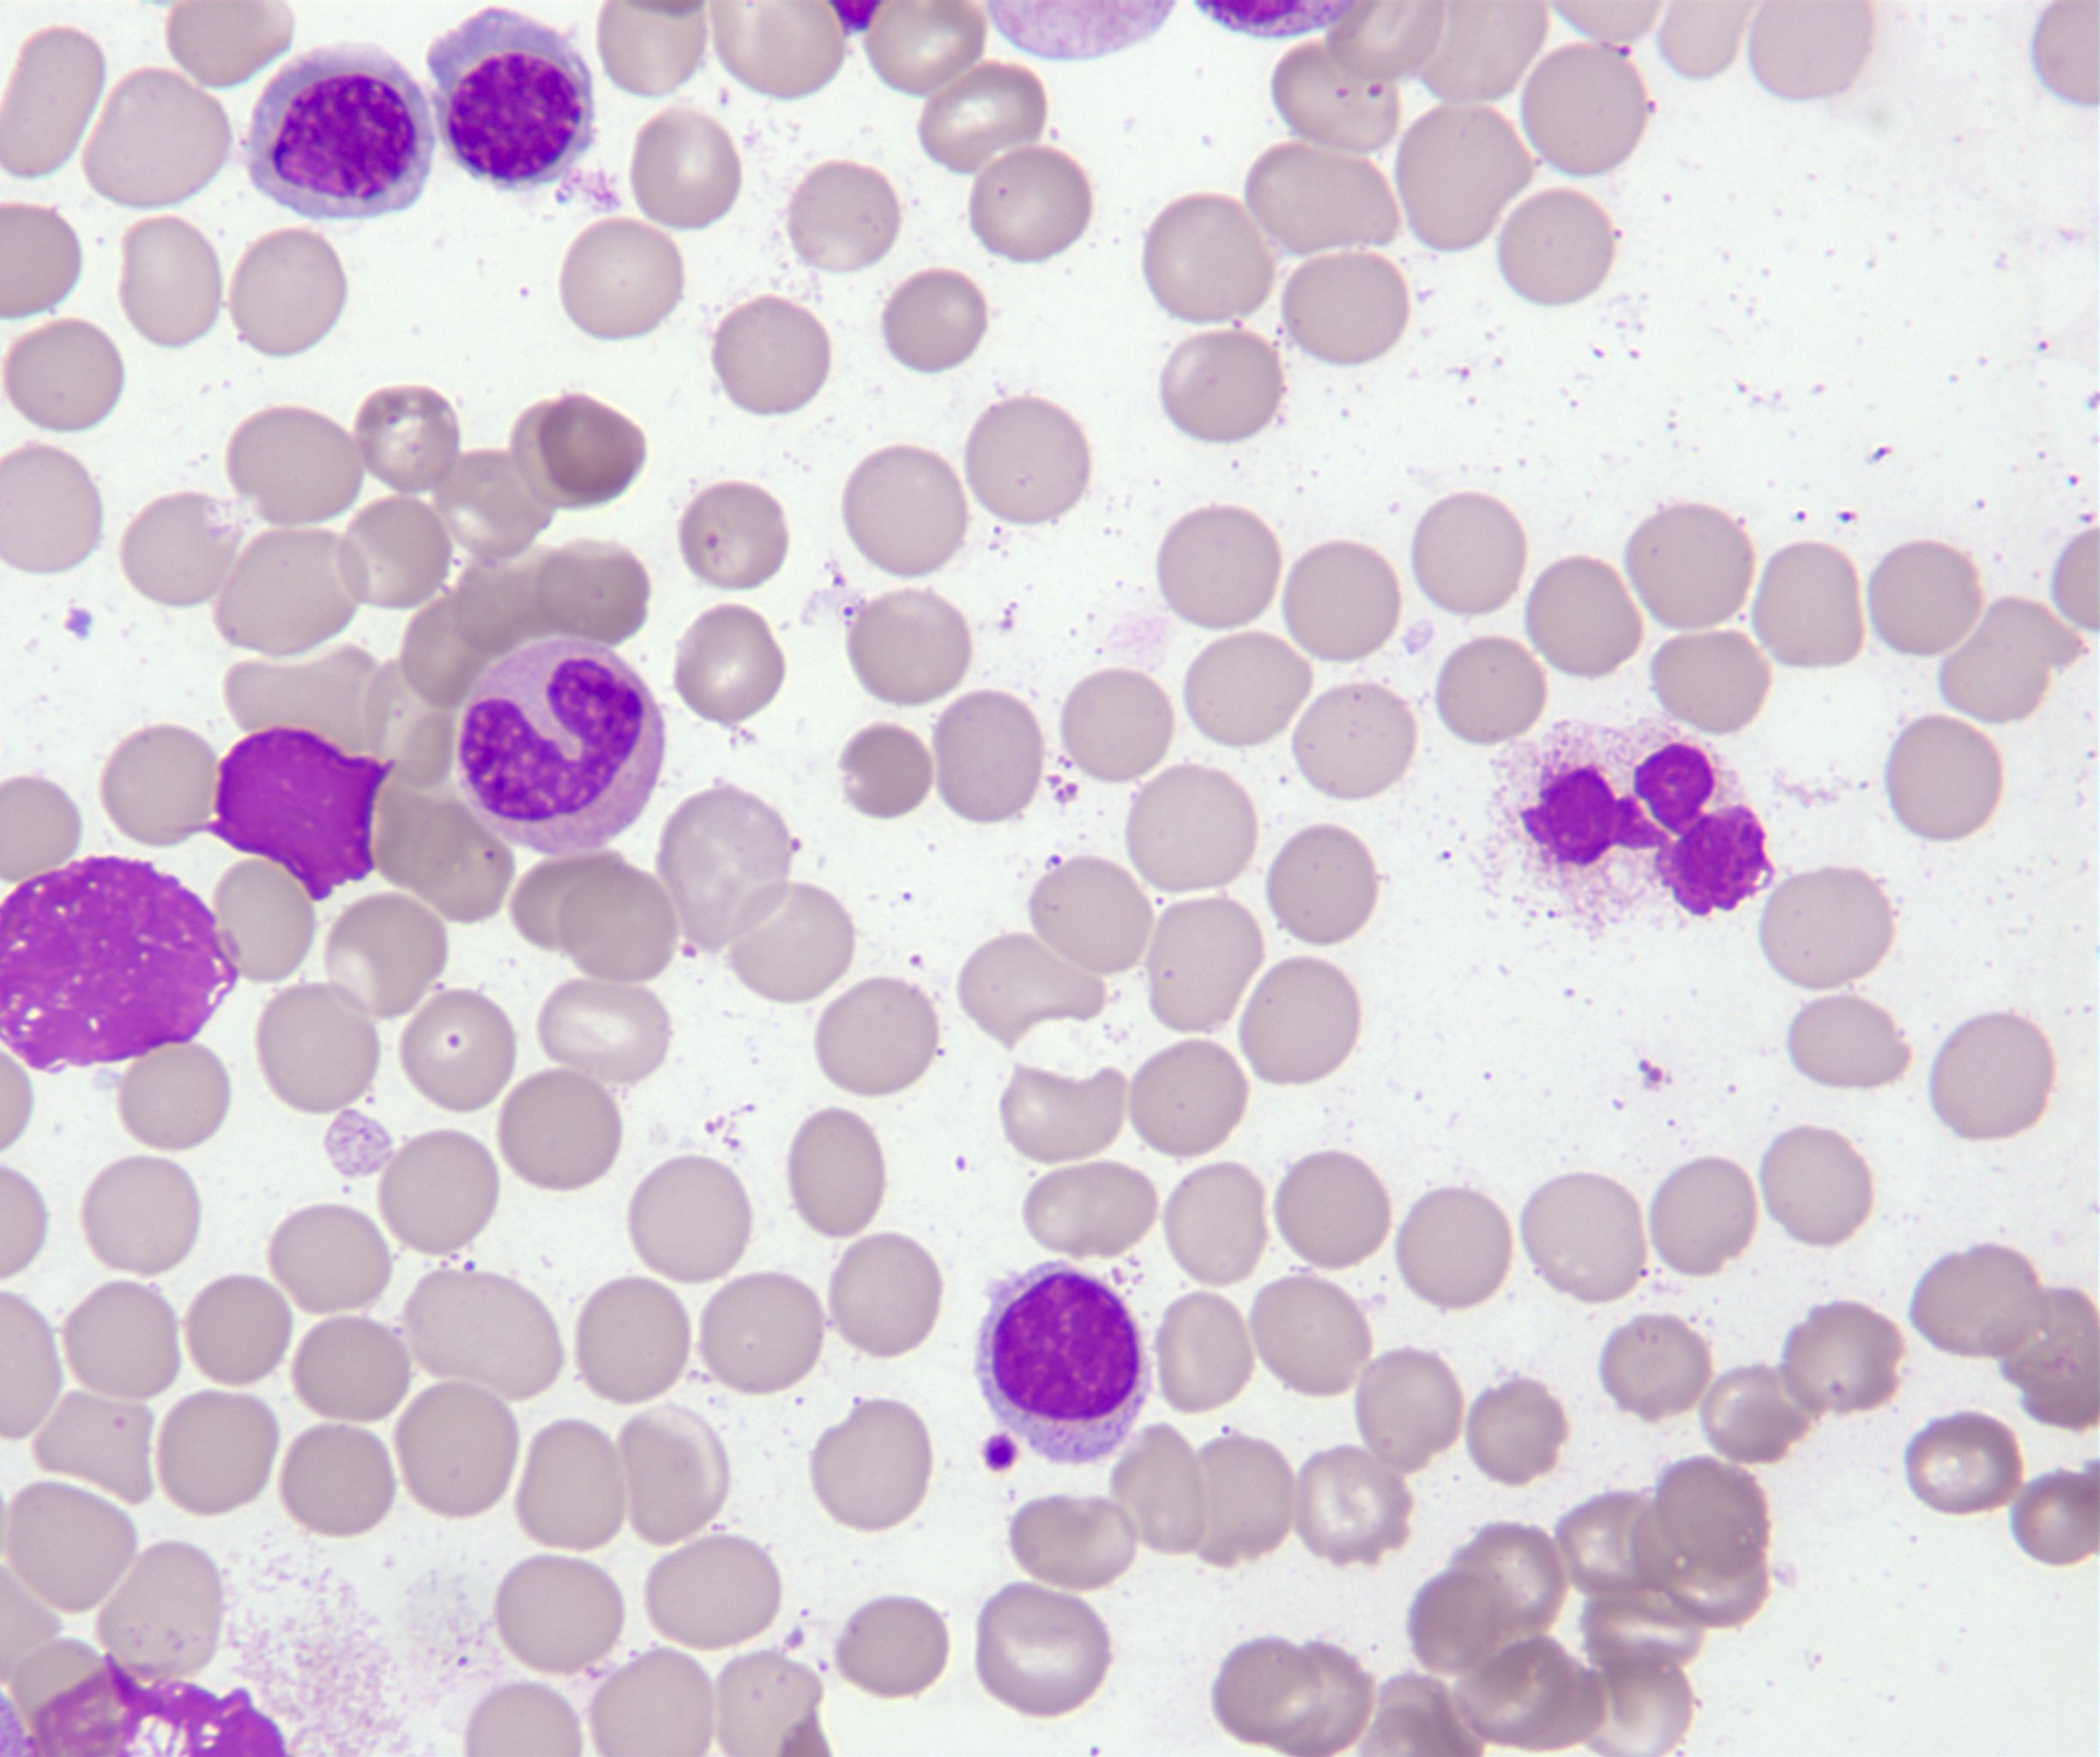23: (244, 47, 433, 218), (427, 7, 593, 190)
32: (973, 1261, 1151, 1462)
5: (457, 639, 663, 858)
x: (1490, 724, 1774, 932), (0, 858, 237, 1077), (190, 726, 392, 902)
